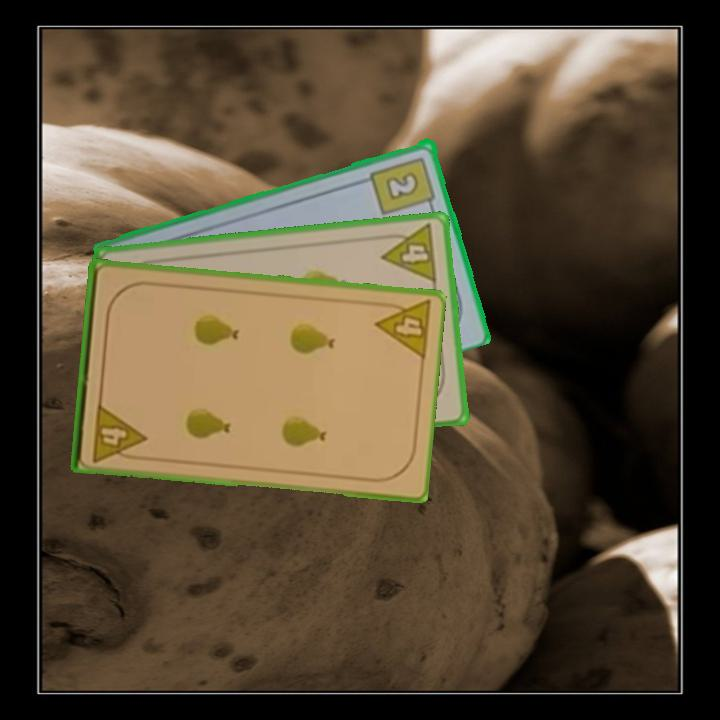2b: (367, 153, 439, 217)
4p: (376, 221, 440, 286), (371, 297, 433, 362), (89, 399, 148, 465)
